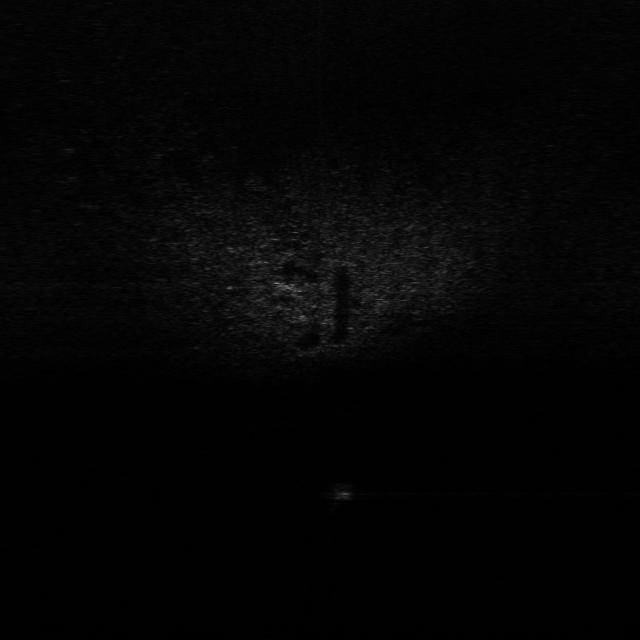cylinder: (324, 474, 354, 505)
